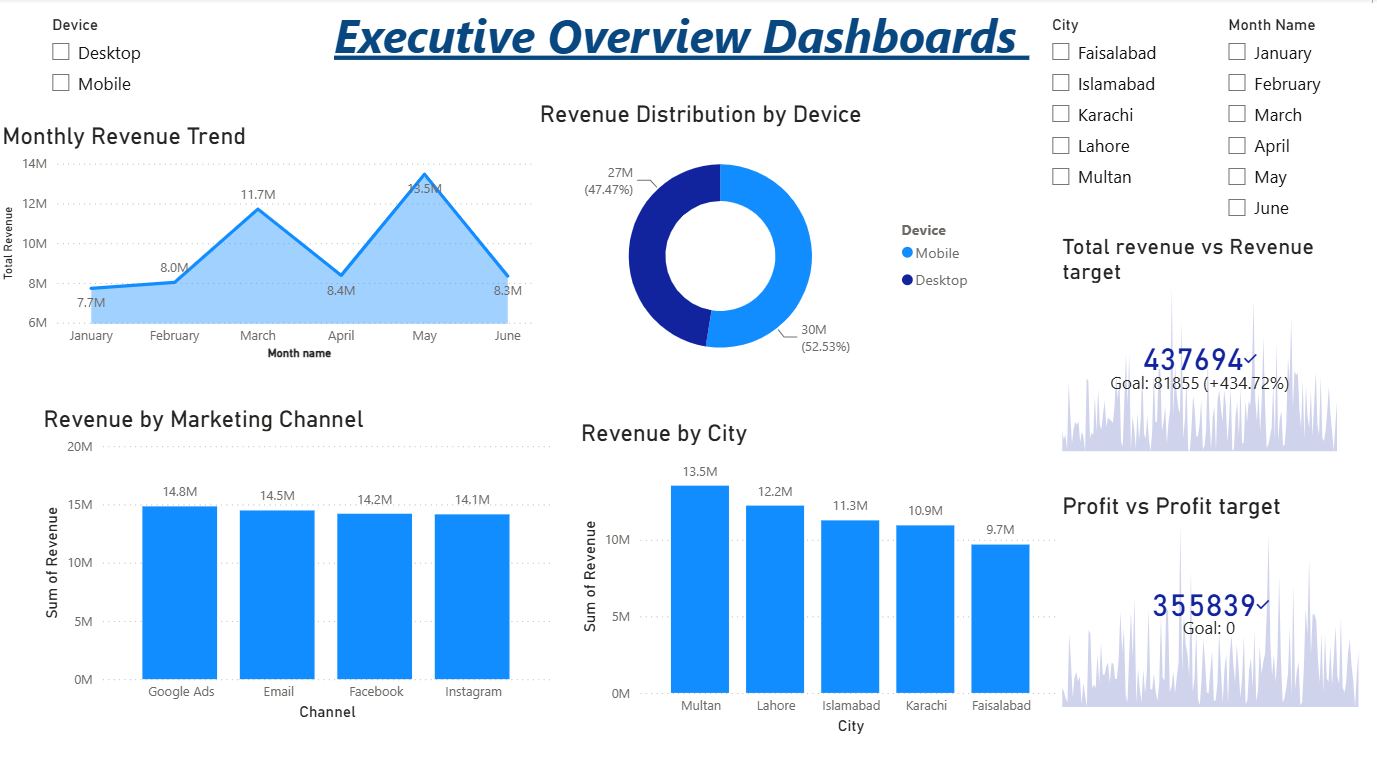

The page's visual inventory and layout, read from the dashboard file:
{"tool":"powerbi","page":{"name":"Executive Overview","canvas":[1280,720],"ordinal":0},"visuals":[{"type":"lineChart","title":"Monthly Revenue Trend ","fields":{"Category":["dim_date.Month Name"],"Y":["Fact_Marketing.Total Revenue"]},"box":[0,115.7,511.4,225.7],"z":0},{"type":"clusteredColumnChart","title":"Revenue by Marketing Channel","fields":{"Category":["dim_channel.Channel"],"Y":["Sum(Fact_Marketing.Revenue)"]},"box":[38.6,378.6,482.9,298.6],"z":1000},{"type":"donutChart","title":"Revenue Distribution by Device ","fields":{"Category":["dim_device.Device"],"Y":["Sum(Fact_Marketing.Revenue)"]},"box":[500,95.7,417.1,265.7],"z":2000},{"type":"columnChart","title":"Revenue by City","fields":{"Category":["dim_city.City"],"Y":["Sum(Fact_Marketing.Revenue)"]},"box":[538.6,391.4,457.1,298.6],"z":3000},{"type":"kpi","title":"Total revenue vs Revenue target","fields":{"TrendLine":["dim_date.Date"],"Goal":["Fact_Marketing.Total Cost"],"Indicator":["Fact_Marketing.Total Revenue"]},"box":[985.7,218.6,265.7,208.6],"z":4000},{"type":"kpi","title":"Profit vs Profit target","fields":{"TrendLine":["dim_date.Date"],"Goal":["Fact_Marketing.target_profit"],"Indicator":["Fact_Marketing.Profit"]},"box":[985.7,460,285.7,204.3],"z":5000},{"type":"textbox","box":[10,0,1252.9,75.7],"z":6000},{"type":"slicer","fields":{"Values":["dim_date.Month Name"]},"box":[1132.9,11.4,138.6,207.1],"z":7000},{"type":"slicer","fields":{"Values":["dim_city.City"]},"box":[968.6,11.4,150,188.6],"z":8000},{"type":"slicer","fields":{"Values":["dim_device.Device"]},"box":[38.6,11.4,168.6,95.7],"z":9000}]}

Visuals, with their boxes in screenshot pixels (x1, y1, x2, y2), scaled from the page's 1280x720 canvas onto the 1377x771 screenshot:
"Monthly Revenue Trend " lineChart: (x1=0, y1=124, x2=550, y2=366)
"Revenue by Marketing Channel" clusteredColumnChart: (x1=42, y1=405, x2=561, y2=725)
"Revenue Distribution by Device " donutChart: (x1=538, y1=102, x2=987, y2=387)
"Revenue by City" columnChart: (x1=579, y1=419, x2=1071, y2=739)
"Total revenue vs Revenue target" kpi: (x1=1060, y1=234, x2=1346, y2=457)
"Profit vs Profit target" kpi: (x1=1060, y1=493, x2=1368, y2=711)
textbox: (x1=11, y1=0, x2=1359, y2=81)
slicer - dim_date.Month Name: (x1=1219, y1=12, x2=1368, y2=234)
slicer - dim_city.City: (x1=1042, y1=12, x2=1203, y2=214)
slicer - dim_device.Device: (x1=42, y1=12, x2=223, y2=115)
